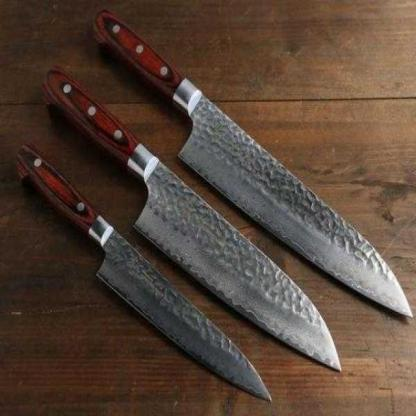Knife: (22, 7, 414, 390)
